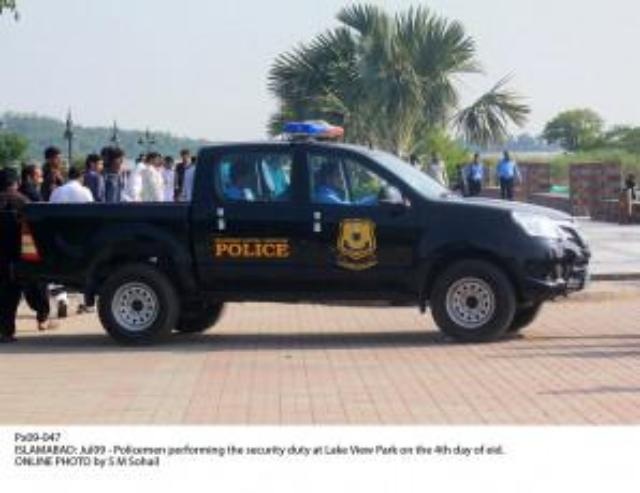police_car: (28, 116, 593, 348)
